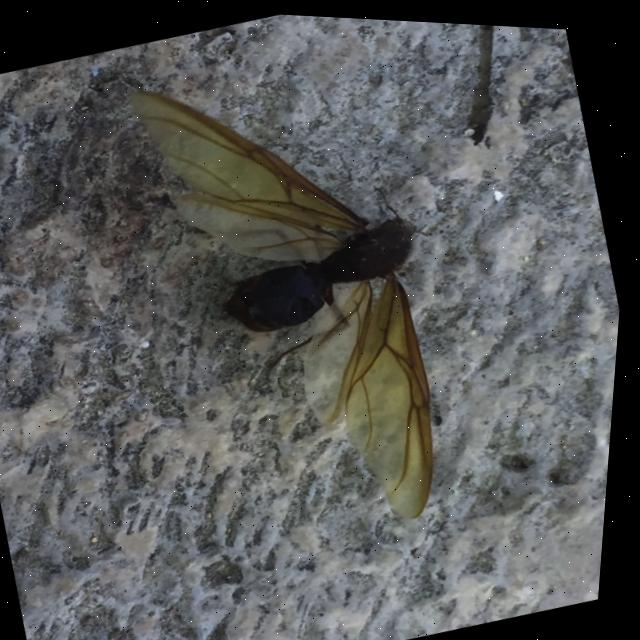Alive-Female-Alate: (102, 13, 546, 569)
